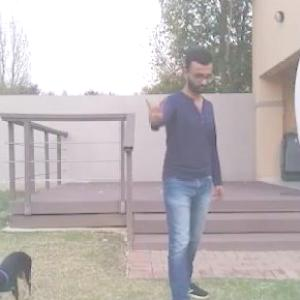takeoff-hand: (138, 90, 174, 128)
